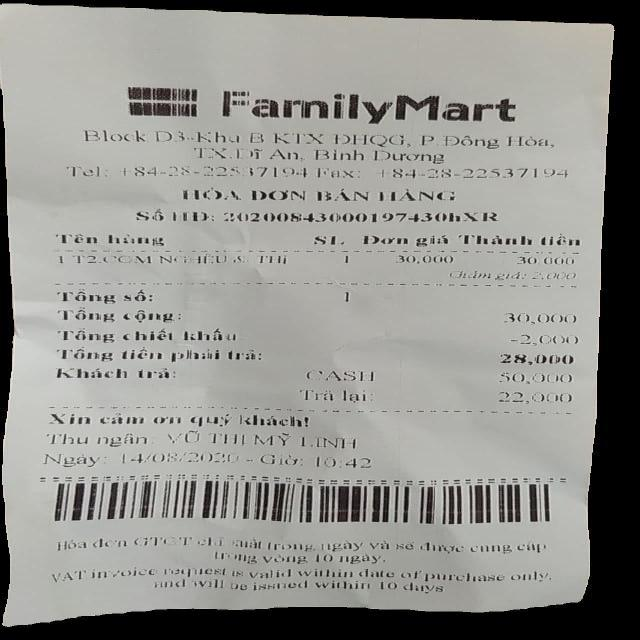Date: (111, 450, 240, 466)
Store_Name: (111, 78, 541, 128)
amount_number: (494, 350, 577, 366)
label_total: (56, 345, 268, 364)
